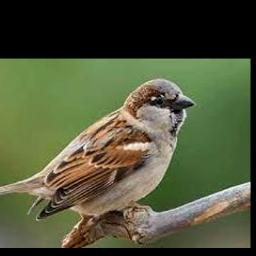Sparrow: (0, 78, 195, 221)
